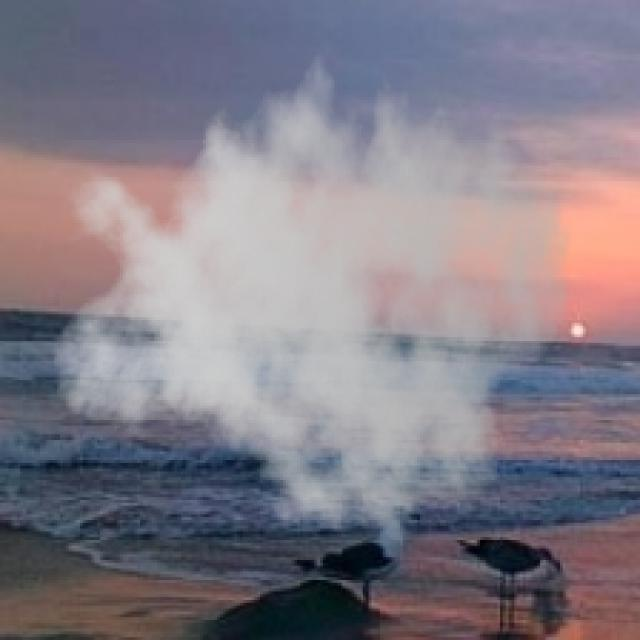smoke: (49, 31, 572, 560)
